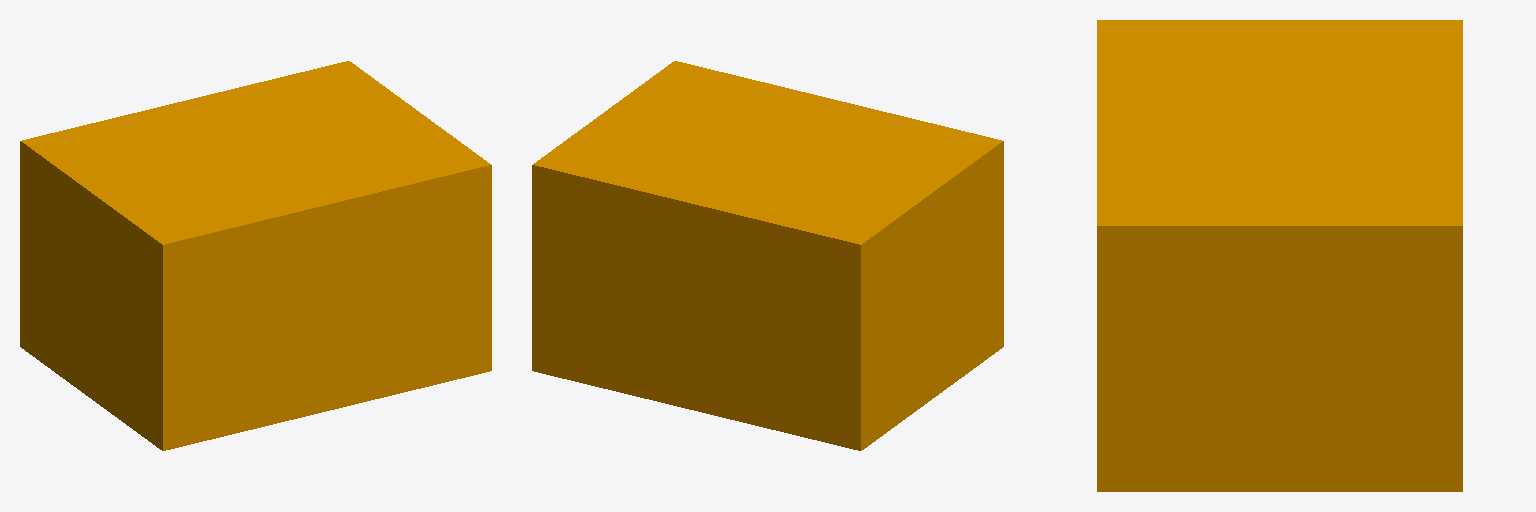
The robot description file, URDF, robot "offset_payload":
<?xml version="1.0"?>
<robot name="offset_payload">
  <link name="base">
    <inertial>
      <origin xyz="-0.02 0 0"/>
      <mass value="0.5"/>
      <inertia ixx="0.01" ixy="0" ixz="0" iyy="0.015" iyz="0" izz="0.02"/>
    </inertial>
    <visual>
      <origin xyz="-0.02 0 0"/>
      <geometry><box size="0.2 0.15 0.12"/></geometry>
    </visual>
  </link>
  <link name="cable_attachment"/>
  <joint name="cable_mount" type="fixed">
    <parent link="base"/>
    <child link="cable_attachment"/>
    <origin xyz="0.08 0 0.1"/>
  </joint>
</robot>

--- What the picture shows (computed from the rendered views, not written in the file) ---
Views: 3 orthographic renders of the robot side by side, from view 1: azimuth 30°, elevation 25°; view 2: azimuth 150°, elevation 25°; view 3: azimuth 270°, elevation 25°.
Robot: offset_payload — 2 links, 1 joints (1 fixed); root link base; default pose: all joints at 0.
Links seen in each view (by area): view 1: base; view 2: base; view 3: base.
Boxes of the visible links, x1,y1,x2,y2 form: base: [20, 61, 491, 450]; base: [532, 61, 1003, 450]; base: [1097, 20, 1462, 491].
Size in the robot's own frame: 0.2 by 0.15 by 0.12 metres.
Geometry: primitives only (box / cylinder / sphere), no mesh files.
